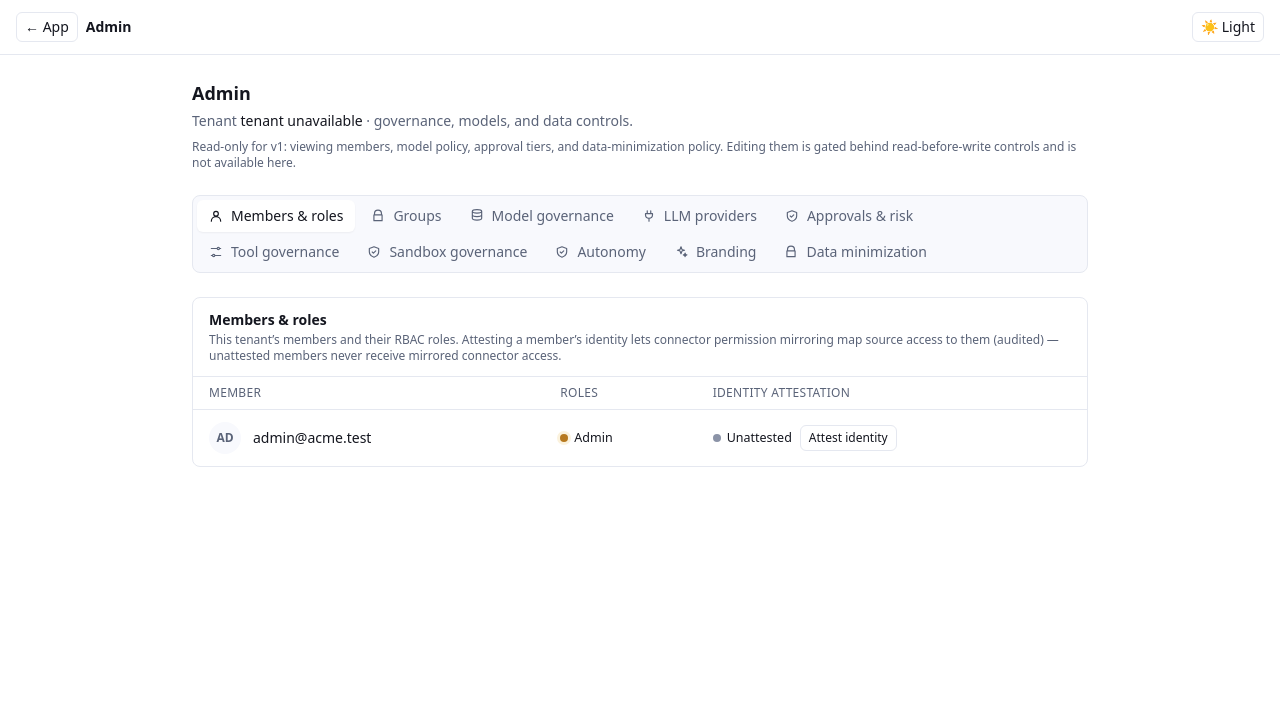
Test case: AdminPage › switches panels when a tab is selected
The width and height of the screenshot is (1280, 720).
Expected: the text "admin@acme.test" is shown, [253,428,371,448]
Click the tab "Model governance": (542, 216) [458,200,626,232]
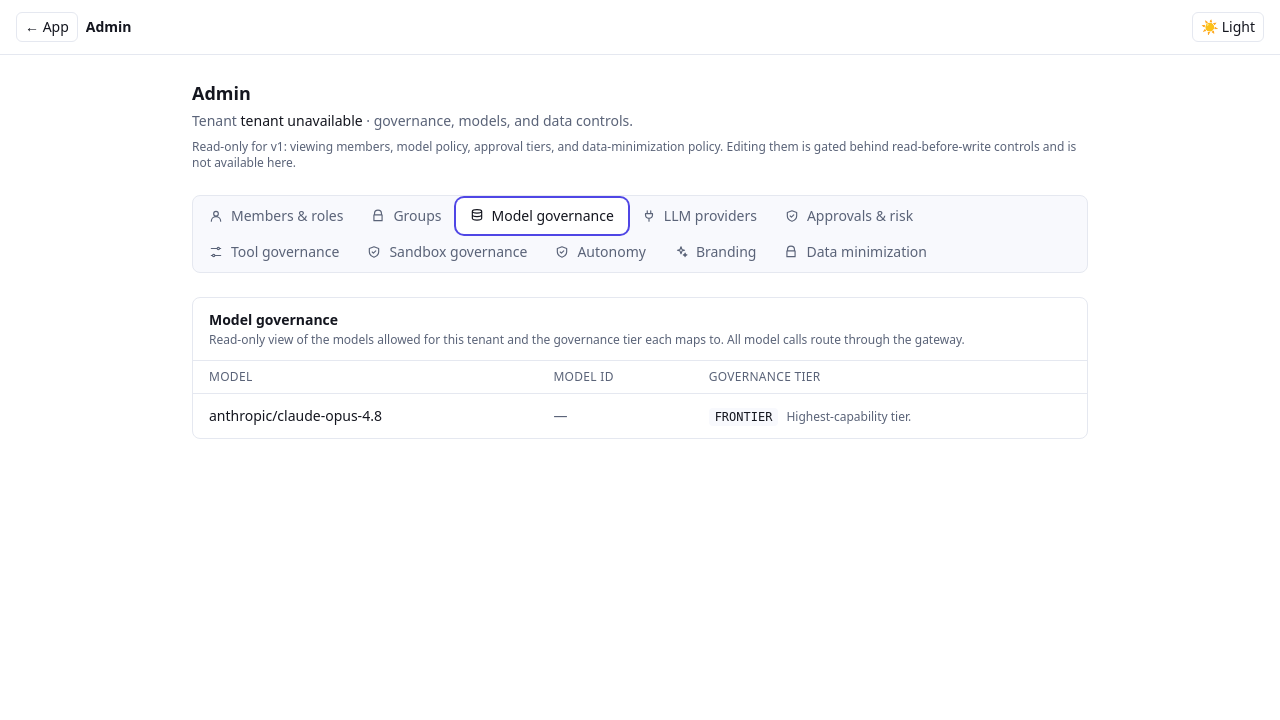
Expected: the text "anthropic/claude-opus-4.8" is shown, [193,394,537,438]
Click the tab "Approvals & risk": (849, 216) [773,200,925,232]
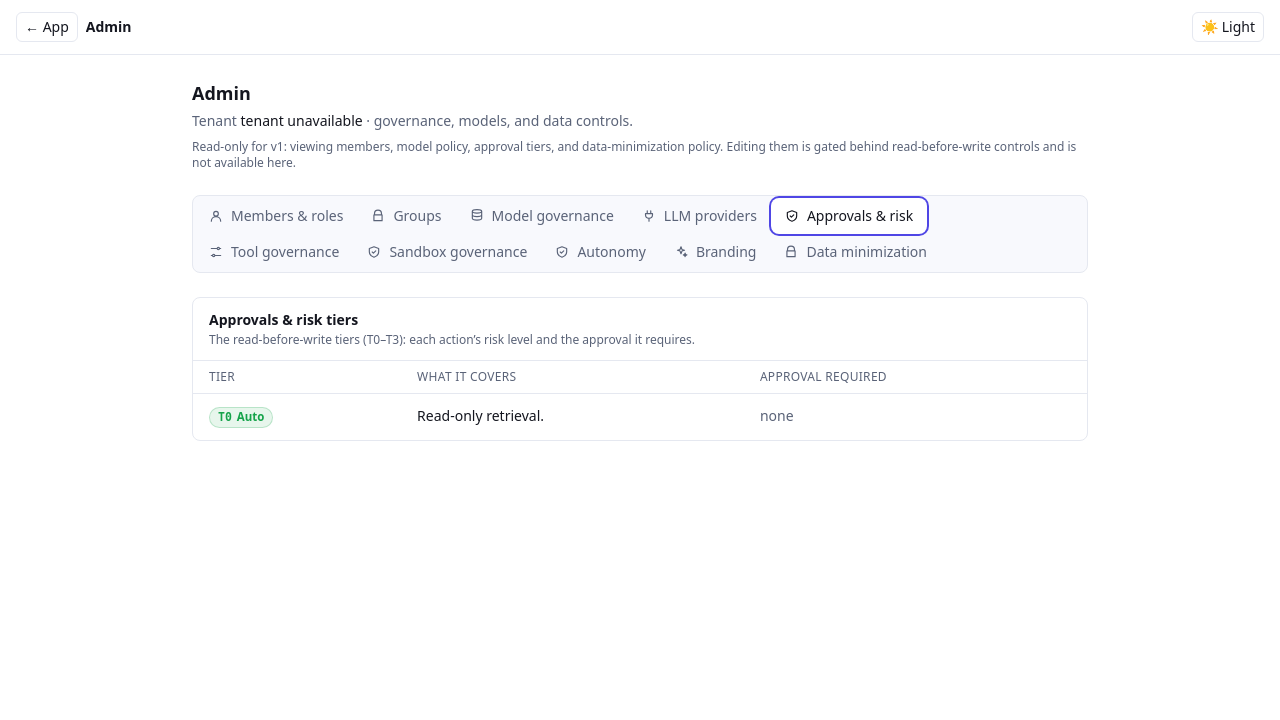
Expected: the text "Read-only retrieval." is shown, [401,394,744,440]
Click the tab "Data minimization": (856, 252) [772,236,939,268]
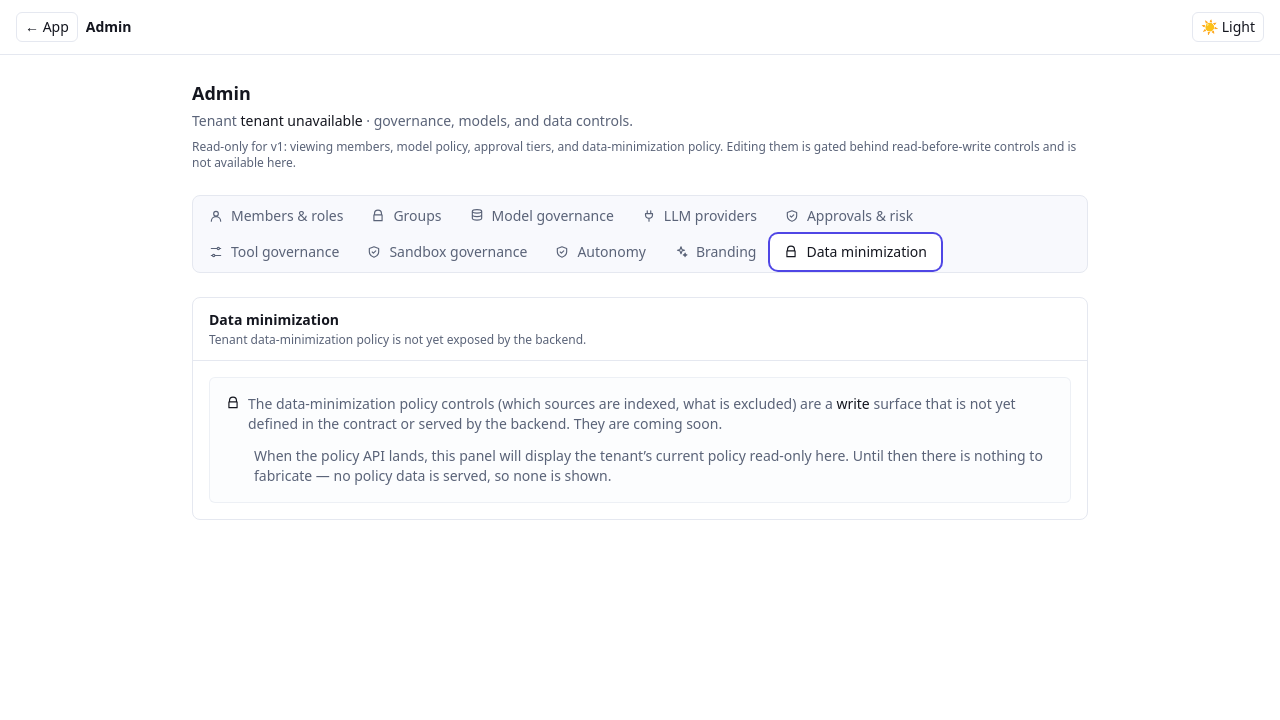
Expected: the heading "Data minimization" is shown, [209,310,339,329]
